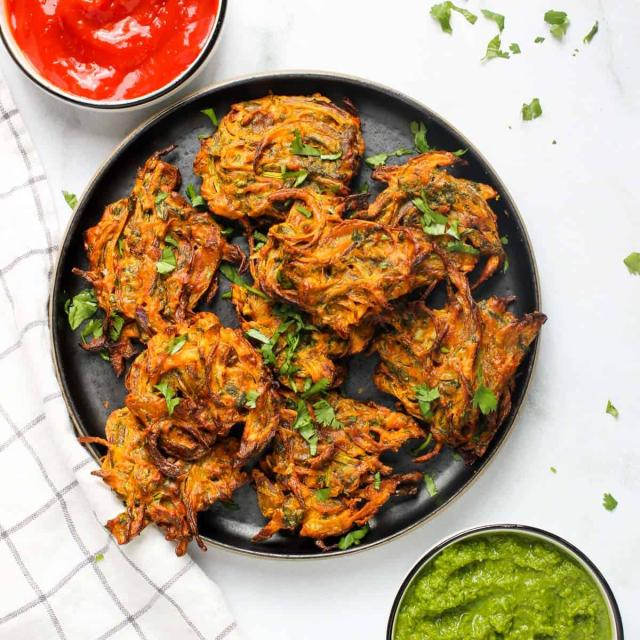BAJI: (79, 93, 550, 559)
